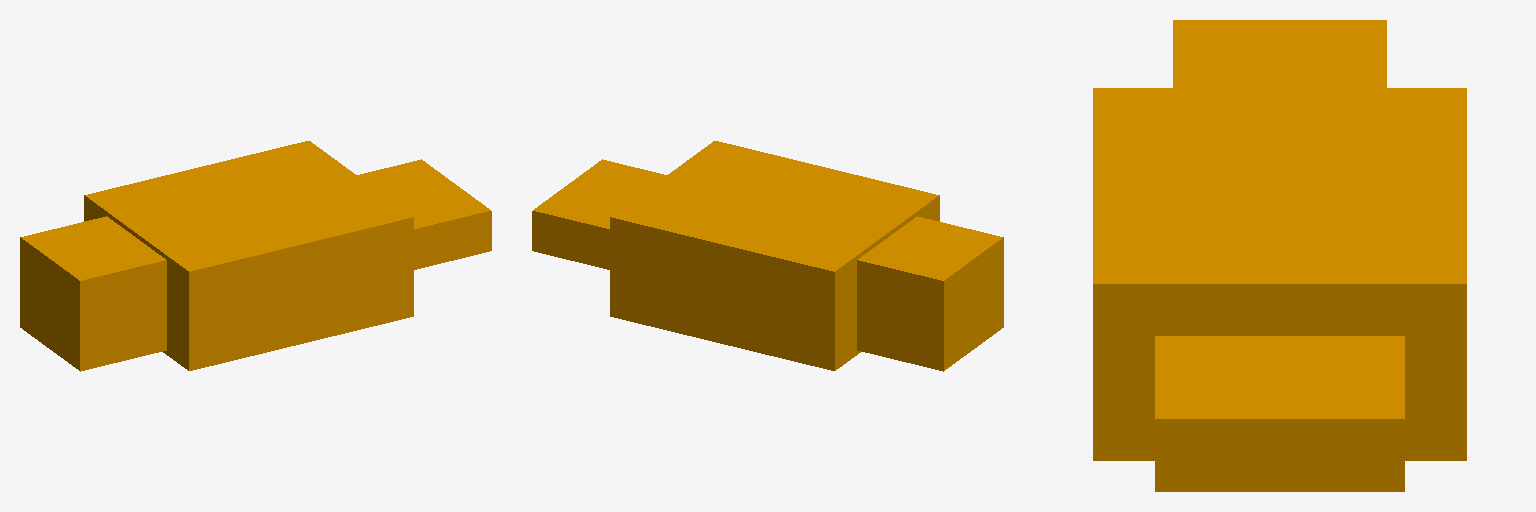
URDF robot description (hdmi):
<?xml version="1.0"?>
<robot name="hdmi">
  <link name="hdmi">
    <visual><geometry><mesh filename="hdmi_visual.obj"/></geometry></visual>
    <collision><geometry><mesh filename="hdmi_hull.obj"/></geometry></collision>
  </link>
</robot>

--- Render facts (derived) ---
Views: 3 orthographic renders of the robot side by side, from view 1: azimuth 30°, elevation 25°; view 2: azimuth 150°, elevation 25°; view 3: azimuth 270°, elevation 25°.
Model hdmi with 1 links and 0 joints (none), rooted at hdmi, posed every joint at zero.
Links seen in each view (by area): view 1: hdmi; view 2: hdmi; view 3: hdmi.
Link boxes in pixels (left/top/right/bottom): hdmi: left=20, top=141, right=491, bottom=371; hdmi: left=532, top=141, right=1003, bottom=371; hdmi: left=1093, top=20, right=1466, bottom=491.
Size in the robot's own frame: 0.047 by 0.021 by 0.011 metres.
1 mesh visuals loaded from 1 distinct referenced files (1 OBJ).
